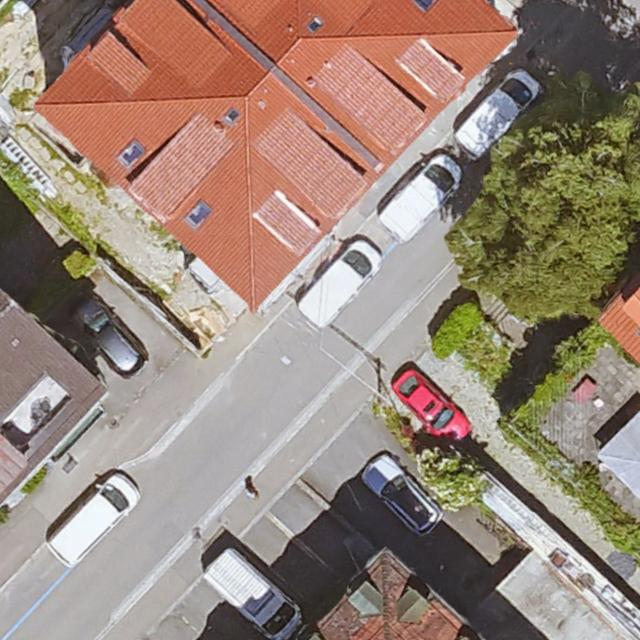tree: (453, 98, 640, 319), (417, 447, 486, 512), (413, 448, 423, 454)
